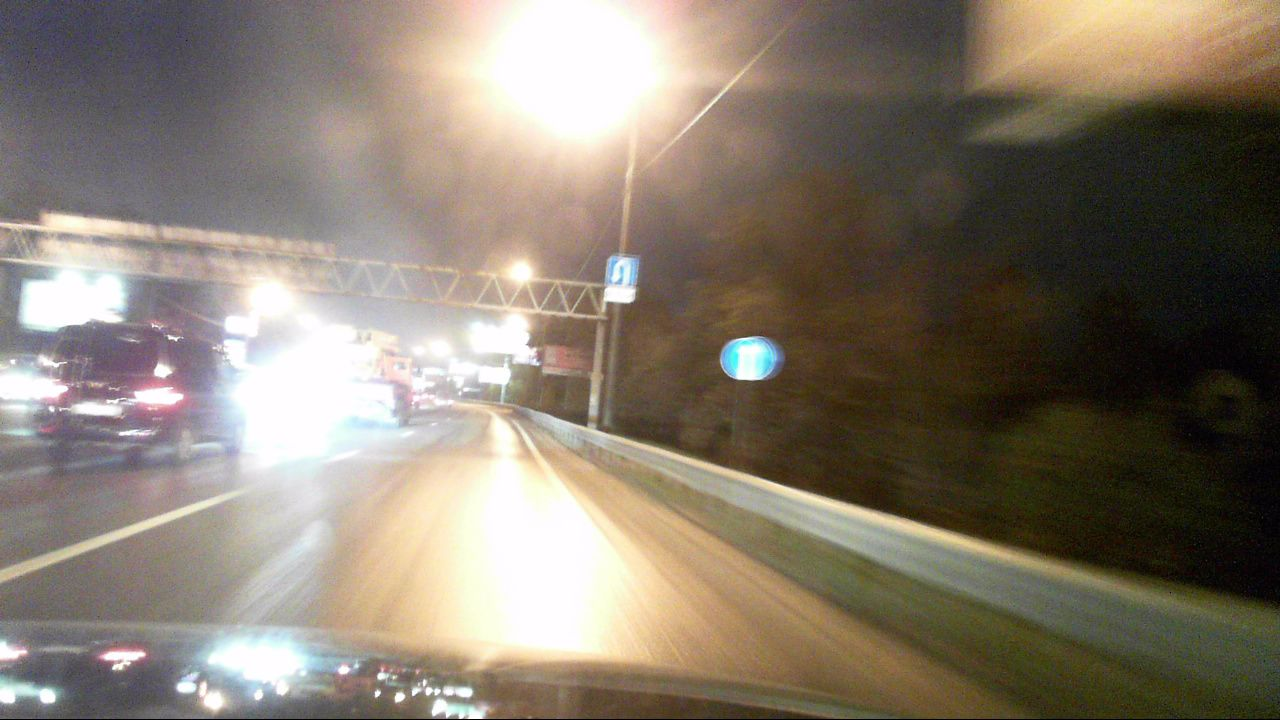U-turn: (609, 256, 637, 285)
